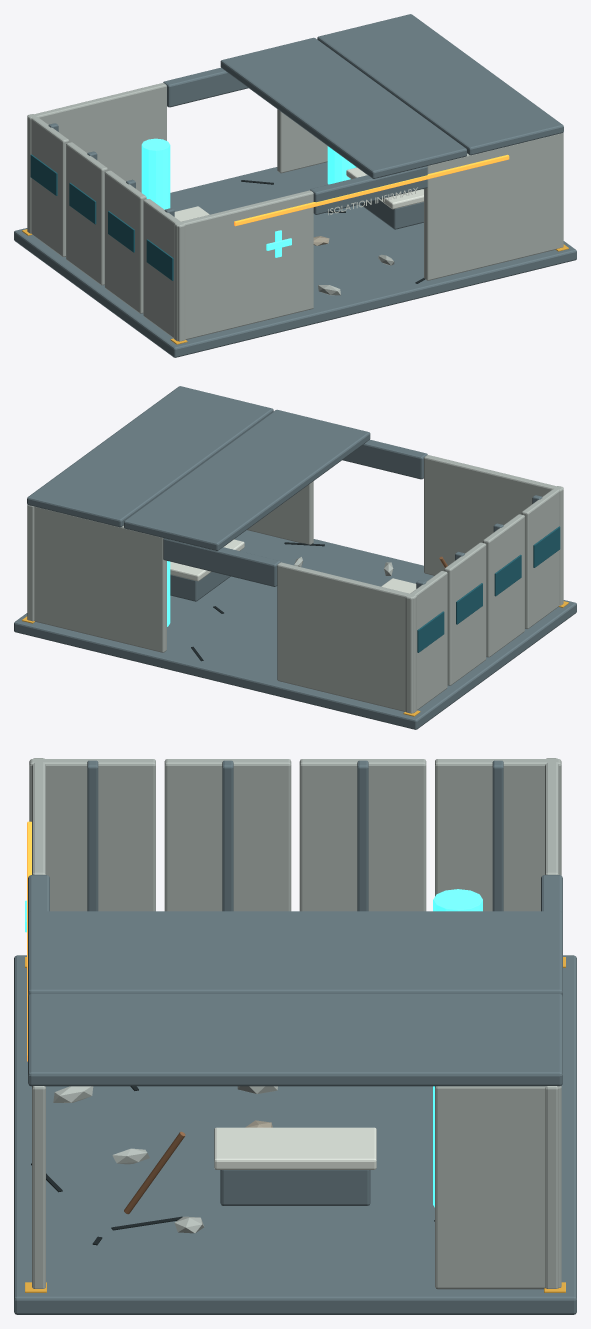
The model's file is personnel_infirmary_d2.glb.
3 views of the same model, one above another, from view 1: azimuth 30°, elevation 25°; view 2: azimuth 150°, elevation 25°; view 3: azimuth 270°, elevation 25° (orthographic). The views are drawn at different scales.
Visible parts, largest first — view 1: Foundation.010, Removable roof segment.028, End bulkhead.037, End bulkhead.036, Removable roof segment.029, End bulkhead.038, Side pressure panel.063, Side pressure panel.064, Side pressure panel.062, Side pressure panel.065, Door header.016, End bulkhead.039 (+10 smaller); view 2: Foundation.010, End bulkhead.038, Removable roof segment.028, End bulkhead.039, Removable roof segment.029, End bulkhead.036, Side pressure panel.064, Side pressure panel.063, Side pressure panel.065, Side pressure panel.062, Door header.017, End bulkhead.037 (+8 smaller); view 3: Foundation.010, Removable roof segment.029, Removable roof segment.028, Side pressure panel.066, Side pressure panel.063, Side pressure panel.064, Side pressure panel.062, Side pressure panel.065, Patient capsule.005, Isolation bed base.005, End bulkhead.037, End bulkhead.039 (+10 smaller).
Boxes of the visible parts, x1,y1,x2,y2 form: Foundation.010: [14, 162, 576, 357]; Removable roof segment.028: [220, 37, 466, 178]; End bulkhead.037: [424, 132, 563, 280]; End bulkhead.036: [174, 190, 313, 341]; Removable roof segment.029: [317, 14, 563, 155]; End bulkhead.038: [27, 83, 166, 233]; Side pressure panel.063: [104, 170, 146, 313]; Side pressure panel.064: [66, 142, 107, 285]; Side pressure panel.062: [143, 199, 185, 341]; Side pressure panel.065: [27, 114, 69, 257]; Door header.016: [310, 166, 427, 214]; End bulkhead.039: [277, 109, 327, 173]; Foundation.010: [14, 530, 576, 729]; End bulkhead.038: [277, 562, 416, 713]; Removable roof segment.028: [124, 409, 370, 550]; End bulkhead.039: [34, 506, 166, 652]; Removable roof segment.029: [27, 386, 273, 527]; End bulkhead.036: [424, 455, 563, 605]; Side pressure panel.064: [444, 542, 486, 685]; Side pressure panel.063: [483, 514, 524, 657]; Side pressure panel.065: [405, 571, 447, 713]; Side pressure panel.062: [521, 486, 563, 629]; Door header.017: [163, 538, 280, 586]; End bulkhead.037: [247, 481, 313, 544]; Foundation.010: [14, 955, 576, 1314]; Removable roof segment.029: [28, 993, 562, 1086]; Removable roof segment.028: [28, 911, 562, 996]; Side pressure panel.066: [435, 1086, 561, 1289]; Side pressure panel.063: [164, 759, 291, 911]; Side pressure panel.064: [299, 759, 426, 911]; Side pressure panel.062: [29, 759, 155, 911]; Side pressure panel.065: [435, 759, 561, 911]; Patient capsule.005: [214, 1127, 376, 1169]; Isolation bed base.005: [220, 1170, 370, 1205]; End bulkhead.037: [32, 1086, 45, 1288]; End bulkhead.039: [545, 1086, 558, 1288].
Size of the model in its own units: 13 by 4.15 by 9.
